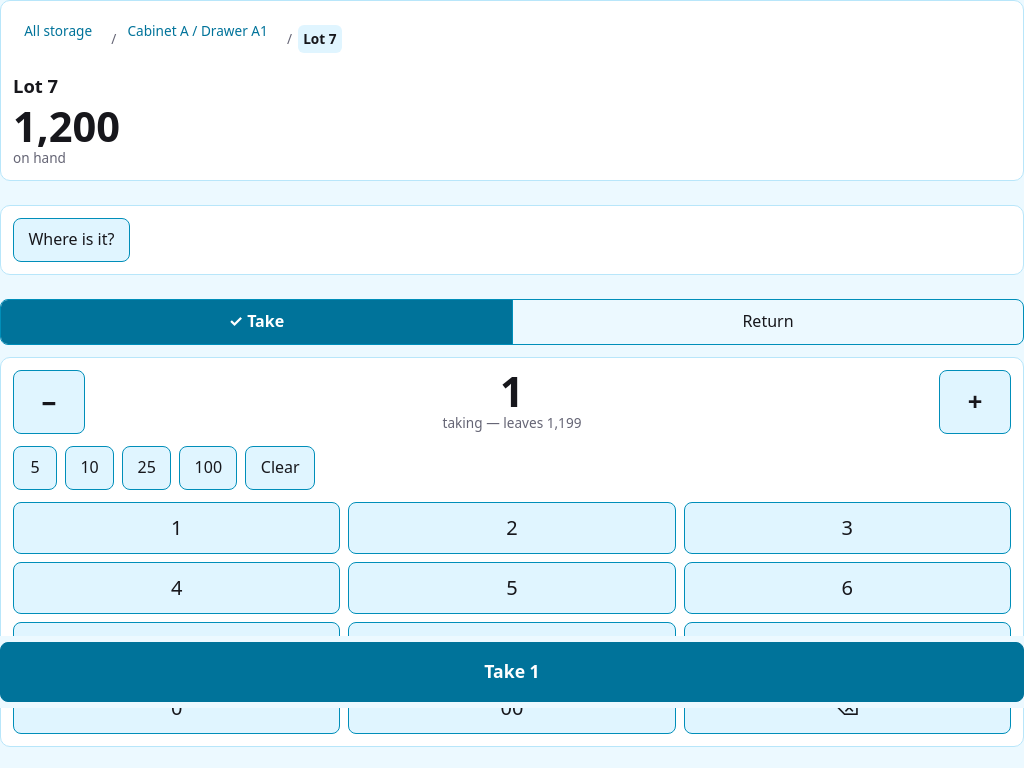
Test case: take / return › warns but still commits when the take drives the balance negative
Click the button labelled "2" at coordinates (512, 528), box [348,502,676,554]
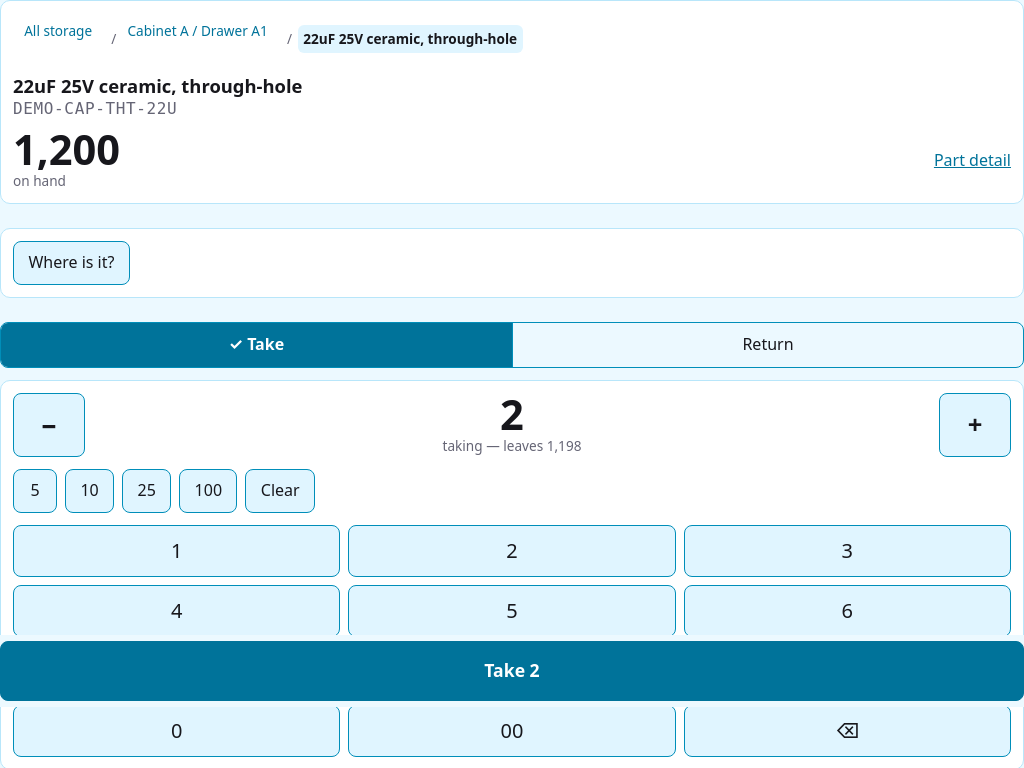
Click the button labelled "0" at coordinates (177, 731), box [13,705,340,757]
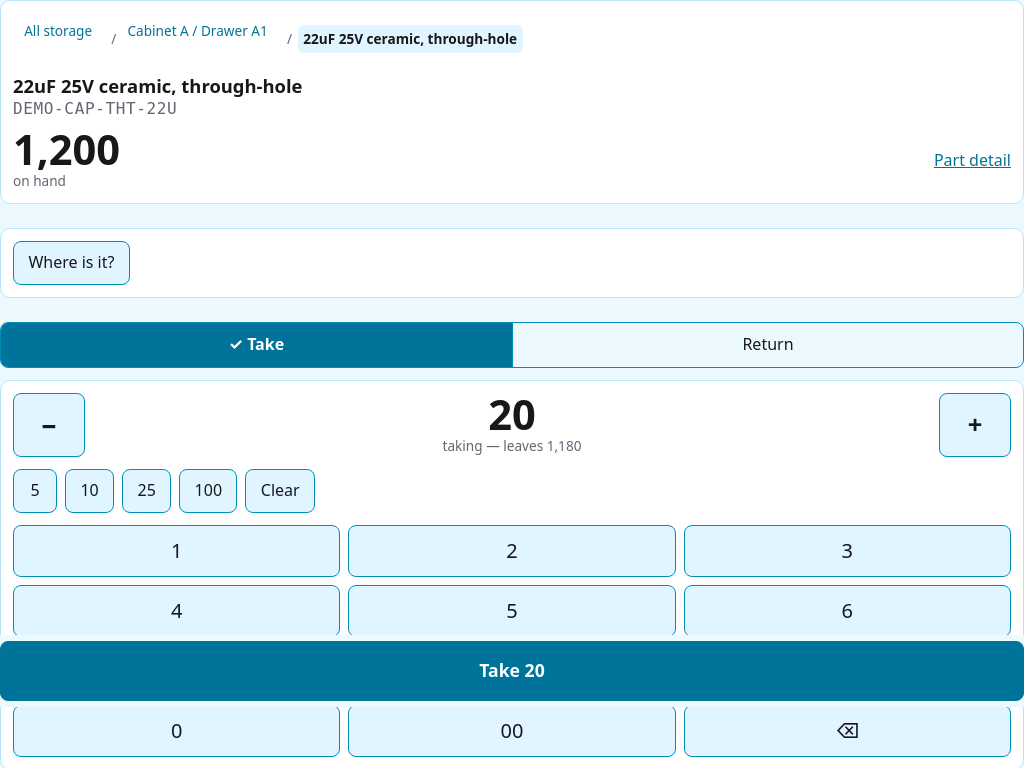
Click the button labelled "0" at coordinates (177, 731), box [13,705,340,757]
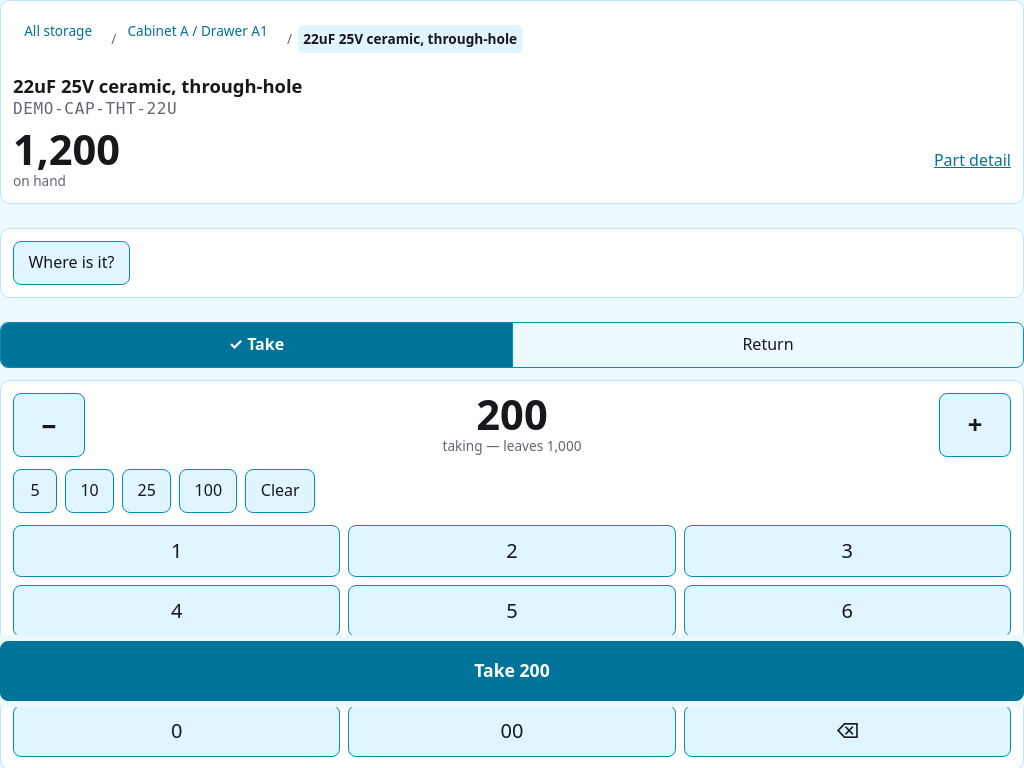
Click the button labelled "0" at coordinates (177, 731), box [13,705,340,757]
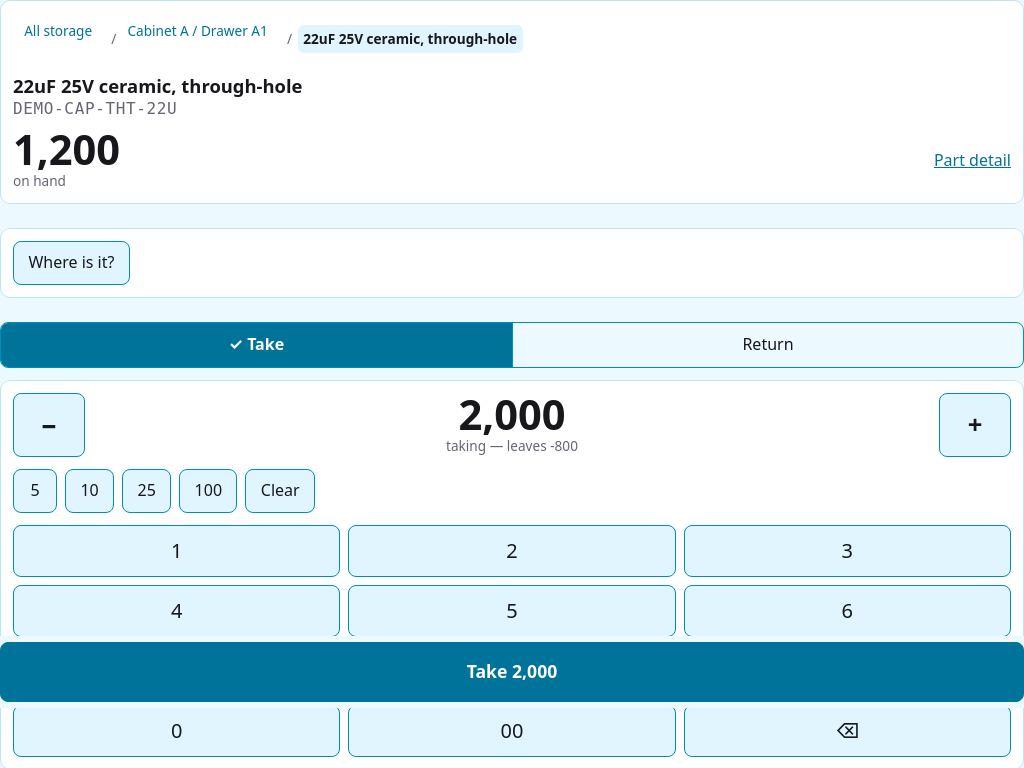
Now the button "Take 2,000" is shown, box [0,642,1023,702]
